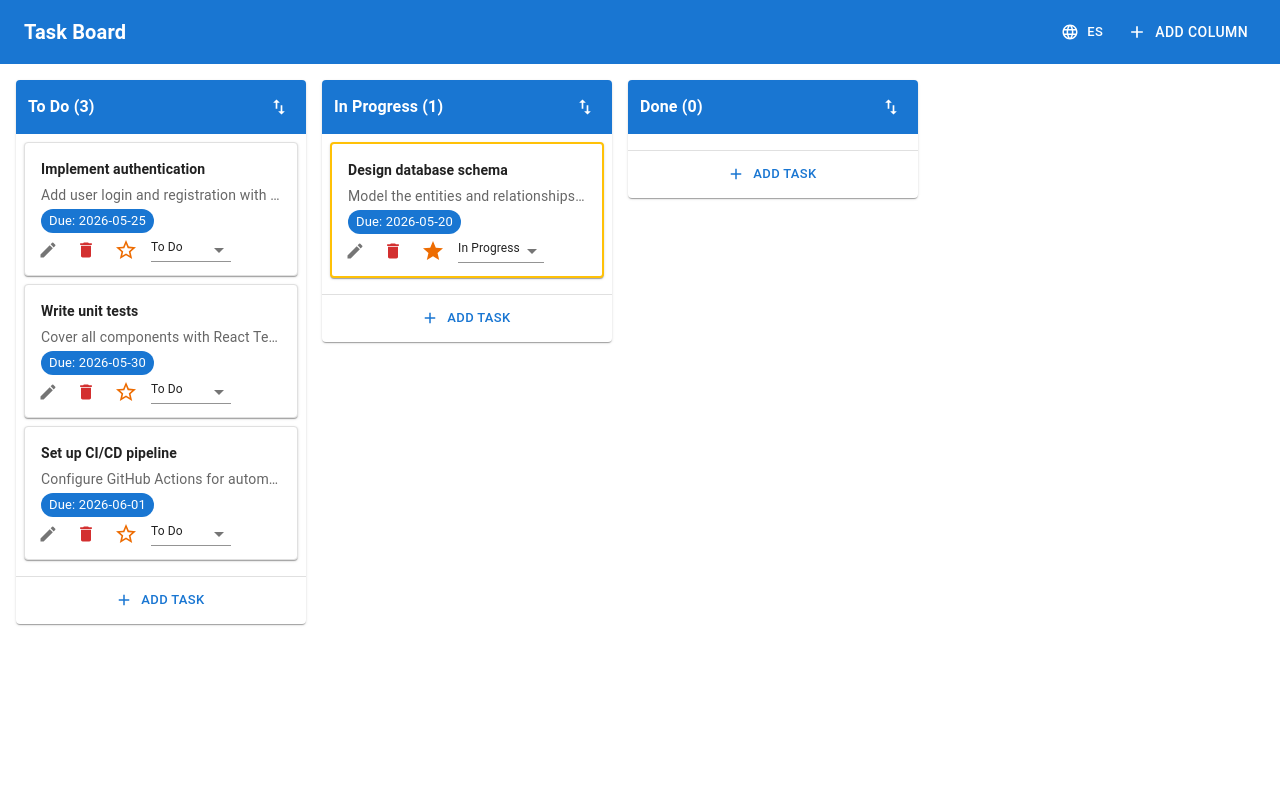
Test: Board › opens the Add Column dialog when the toolbar button is clicked
The width and height of the screenshot is (1280, 800).
Click the button with test id "add-column-btn" at x=1190, y=32, box [1123,14,1256,50]
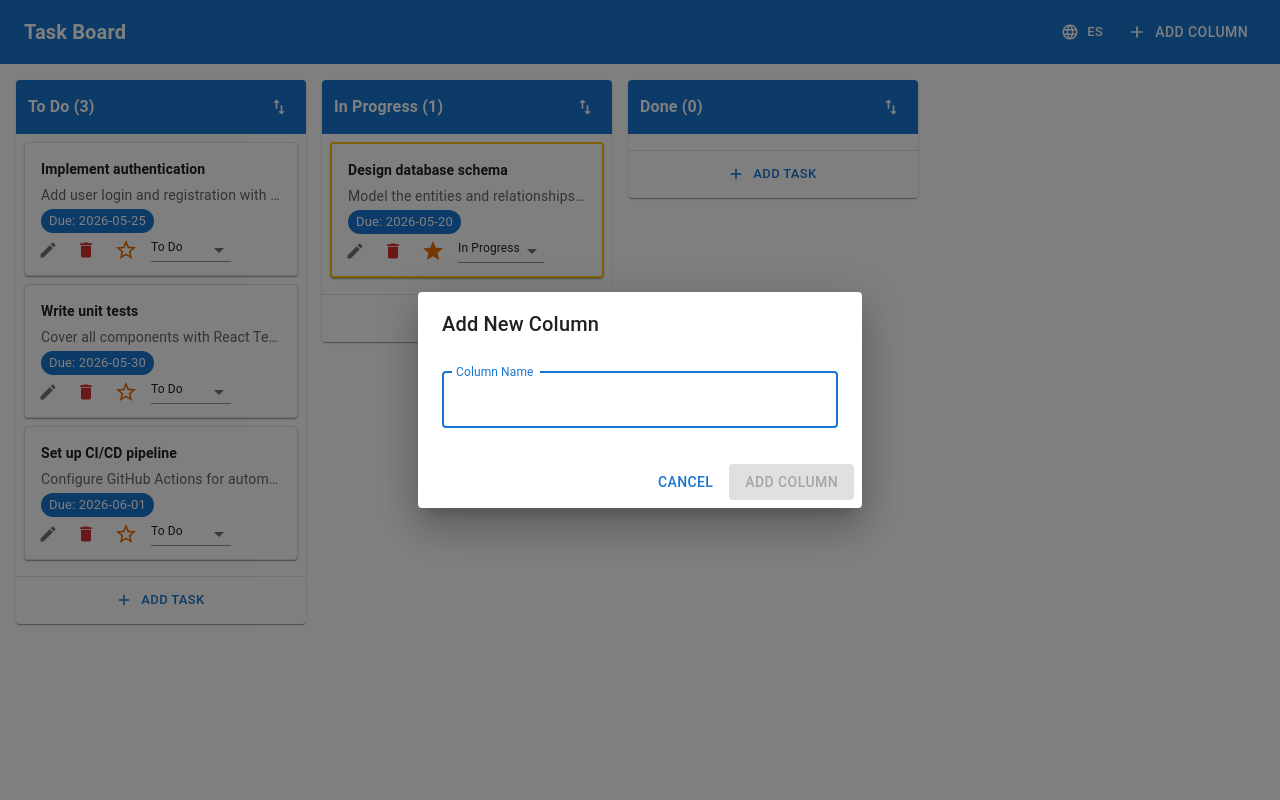
expect the field with test id "column-name-input" is shown: met, box [442,372,838,428]
